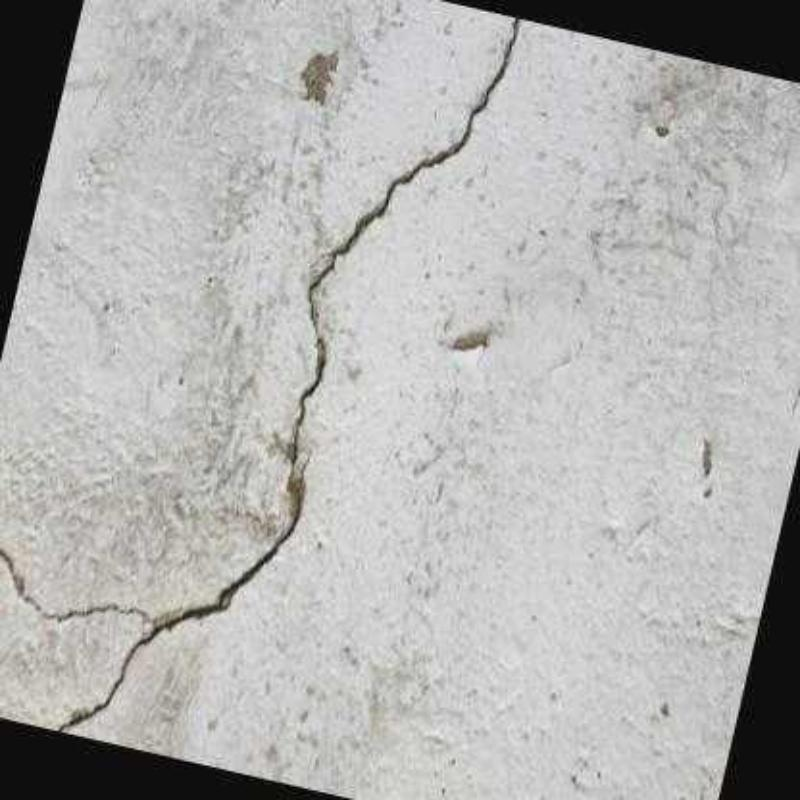crack: (0, 16, 517, 731)
